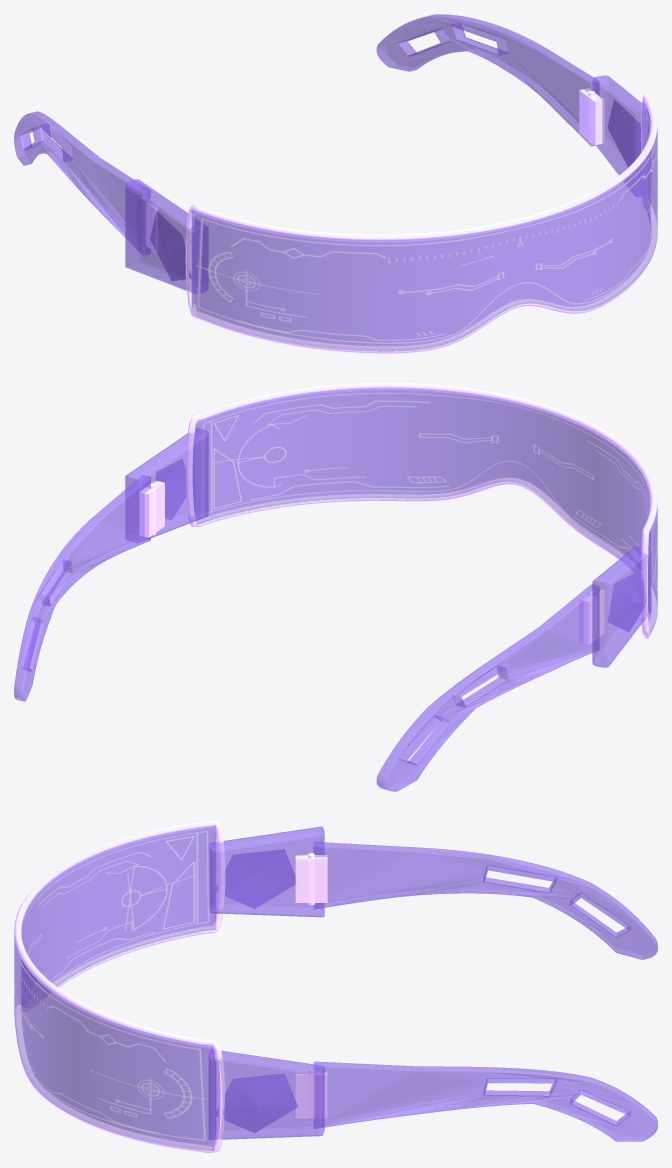
Rendered from oculos-zeta.glb.
3 renders of one model, top to bottom at view 1: azimuth 30°, elevation 25°; view 2: azimuth 150°, elevation 25°; view 3: azimuth 270°, elevation 25°, orthographic.
Visible parts, largest first — view 1: Lente_Visor_Curva_Fina, Borda_Perimetral_Lilás_Fina, Haste_Curva_Fina_Dir, Haste_Curva_Fina_Esq, Bloco_Prismatico_Tempora_Esq, Camada_HUD_Frontal, Bloco_Prismatico_Tempora_Dir, Conjunto_Haste_Esquerda, Conjunto_Haste_Direita, Dobradica_Interna_Dir, Dobradica_Interna_Esq; view 2: Lente_Visor_Curva_Fina, Haste_Curva_Fina_Esq, Borda_Perimetral_Lilás_Fina, Haste_Curva_Fina_Dir, Camada_HUD_Traseira_Interna, Bloco_Prismatico_Tempora_Dir, Bloco_Prismatico_Tempora_Esq, Conjunto_Haste_Esquerda, Dobradica_Interna_Dir, Conjunto_Haste_Direita, Dobradica_Interna_Esq; view 3: Lente_Visor_Curva_Fina, Haste_Curva_Fina_Dir, Haste_Curva_Fina_Esq, Bloco_Prismatico_Tempora_Dir, Borda_Perimetral_Lilás_Fina, Bloco_Prismatico_Tempora_Esq, Camada_HUD_Traseira_Interna, Camada_HUD_Frontal, Conjunto_Haste_Direita, Conjunto_Haste_Esquerda, Dobradica_Interna_Esq, Dobradica_Interna_Dir.
Part boxes in pixels (box(x1,y1,x2,y2)): Lente_Visor_Curva_Fina: box(191, 99, 657, 351); Borda_Perimetral_Lilás_Fina: box(185, 94, 657, 353); Haste_Curva_Fina_Dir: box(376, 14, 599, 146); Haste_Curva_Fina_Esq: box(14, 111, 150, 255); Bloco_Prismatico_Tempora_Esq: box(125, 179, 208, 293); Camada_HUD_Frontal: box(196, 134, 657, 343); Bloco_Prismatico_Tempora_Dir: box(592, 75, 650, 196); Conjunto_Haste_Esquerda: box(149, 198, 191, 280); Conjunto_Haste_Direita: box(588, 90, 640, 167); Dobradica_Interna_Dir: box(579, 88, 604, 145); Dobradica_Interna_Esq: box(140, 197, 164, 252); Lente_Visor_Curva_Fina: box(192, 387, 657, 634); Haste_Curva_Fina_Esq: box(376, 584, 599, 791); Borda_Perimetral_Lilás_Fina: box(185, 382, 657, 638); Haste_Curva_Fina_Dir: box(14, 475, 150, 701); Camada_HUD_Traseira_Interna: box(202, 392, 649, 569); Bloco_Prismatico_Tempora_Dir: box(125, 428, 208, 542); Bloco_Prismatico_Tempora_Esq: box(592, 546, 651, 667); Conjunto_Haste_Esquerda: box(588, 570, 648, 631); Dobradica_Interna_Dir: box(139, 480, 164, 537); Conjunto_Haste_Direita: box(149, 459, 186, 535); Dobradica_Interna_Esq: box(579, 589, 604, 644); Lente_Visor_Curva_Fina: box(14, 825, 216, 1150); Haste_Curva_Fina_Dir: box(313, 1061, 657, 1141); Haste_Curva_Fina_Esq: box(313, 842, 657, 959); Bloco_Prismatico_Tempora_Dir: box(209, 1049, 324, 1139); Borda_Perimetral_Lilás_Fina: box(14, 820, 225, 1153); Bloco_Prismatico_Tempora_Esq: box(209, 826, 324, 917); Camada_HUD_Traseira_Interna: box(22, 831, 209, 1001); Camada_HUD_Frontal: box(14, 939, 206, 1140); Conjunto_Haste_Direita: box(214, 1068, 314, 1132); Conjunto_Haste_Esquerda: box(216, 849, 314, 908); Dobradica_Interna_Esq: box(295, 855, 327, 902); Dobradica_Interna_Dir: box(295, 1070, 327, 1118).
Size of the model in its own units: 0.1751 by 0.0415 by 0.2006.
4 materials, 2 textured.
